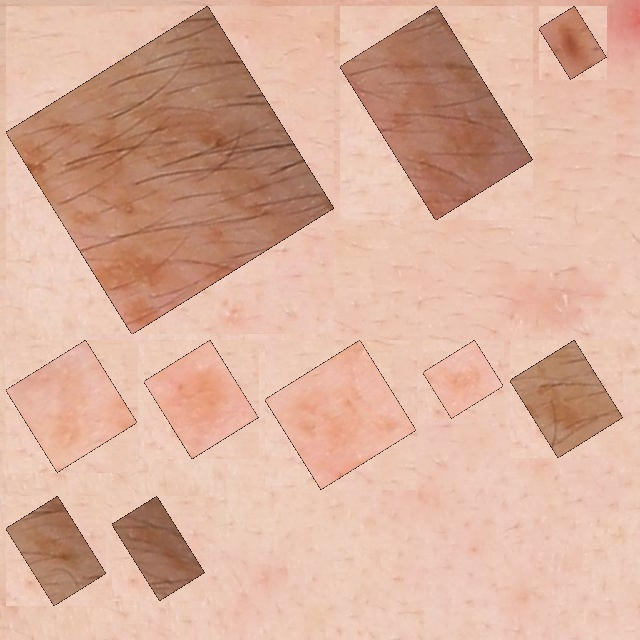melasma: (17, 17, 323, 323), (351, 17, 522, 209), (276, 351, 405, 478), (17, 351, 126, 461), (155, 351, 247, 447), (521, 351, 612, 446), (17, 507, 95, 594), (123, 507, 194, 589), (434, 351, 492, 407), (550, 17, 595, 68)
